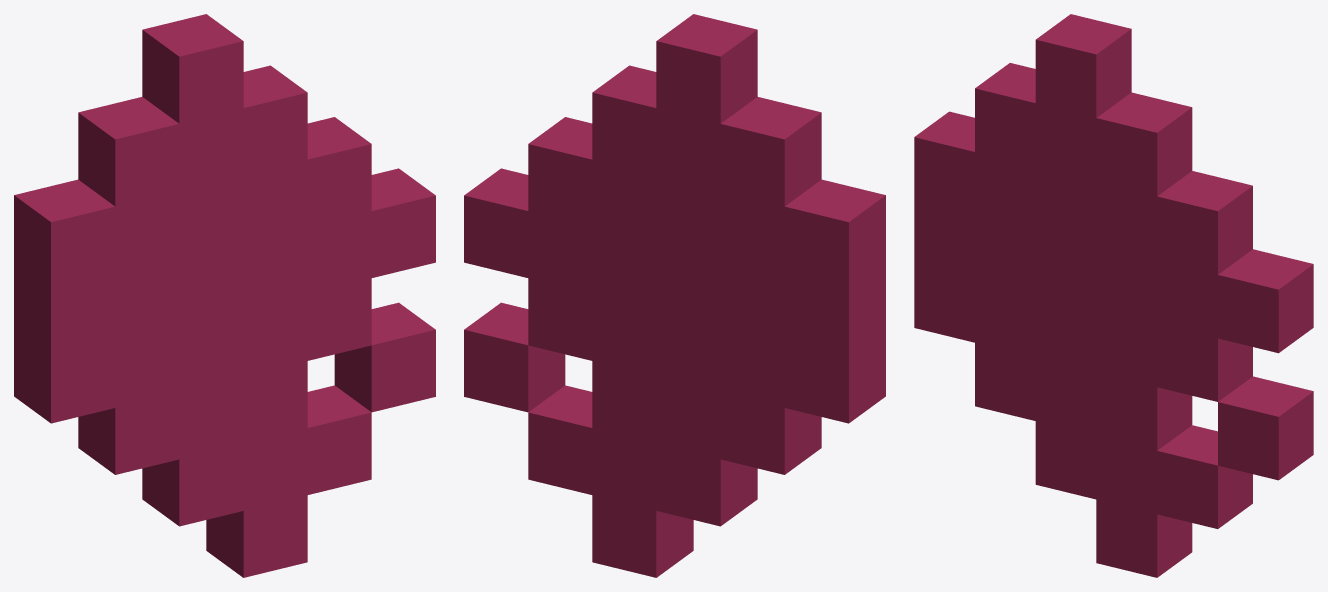
Rendered from Book-Spiritual-Purple.vox.obj.
3 renders of one model, left to right at view 1: azimuth 30°, elevation 25°; view 2: azimuth 150°, elevation 25°; view 3: azimuth 330°, elevation 25°, orthographic. The views are drawn at different scales.
Bounding box in the file's own units: 0.6 × 0.8 × 0.1.
1 material, 1 textured.
